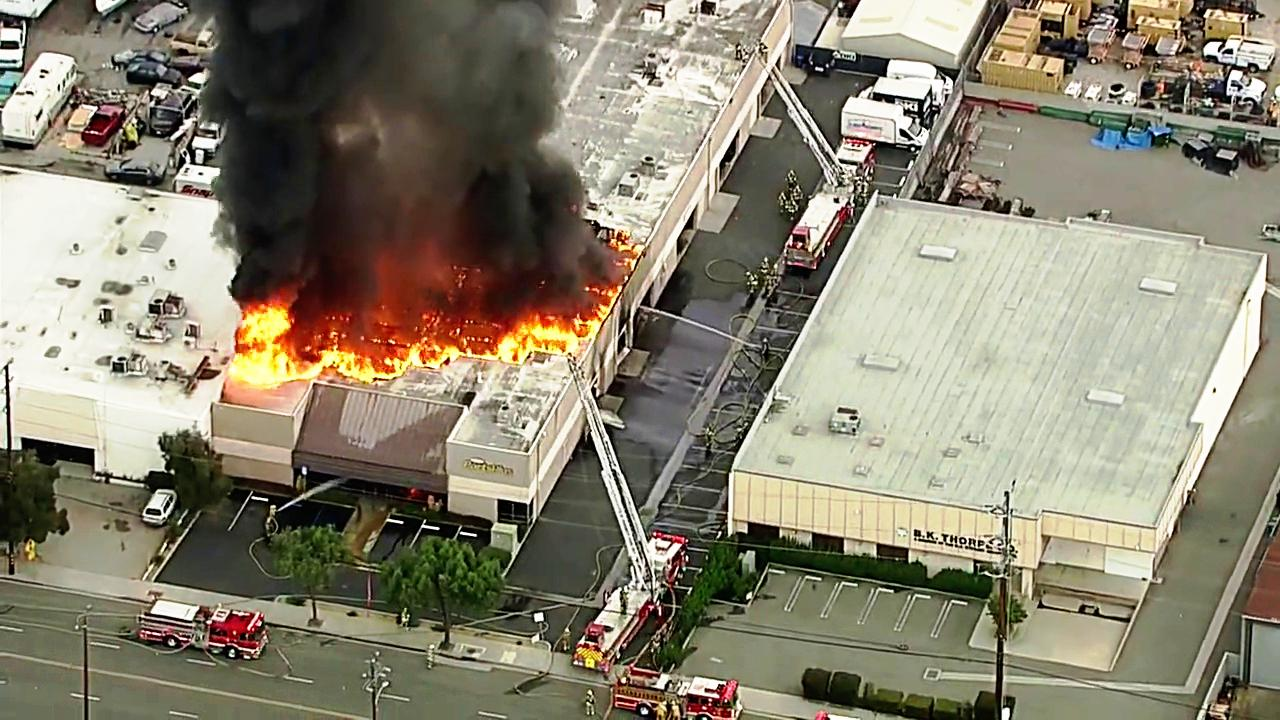fire: (227, 297, 321, 376), (315, 335, 457, 386), (491, 315, 580, 359)
smoke: (455, 15, 595, 298), (215, 15, 325, 286)
